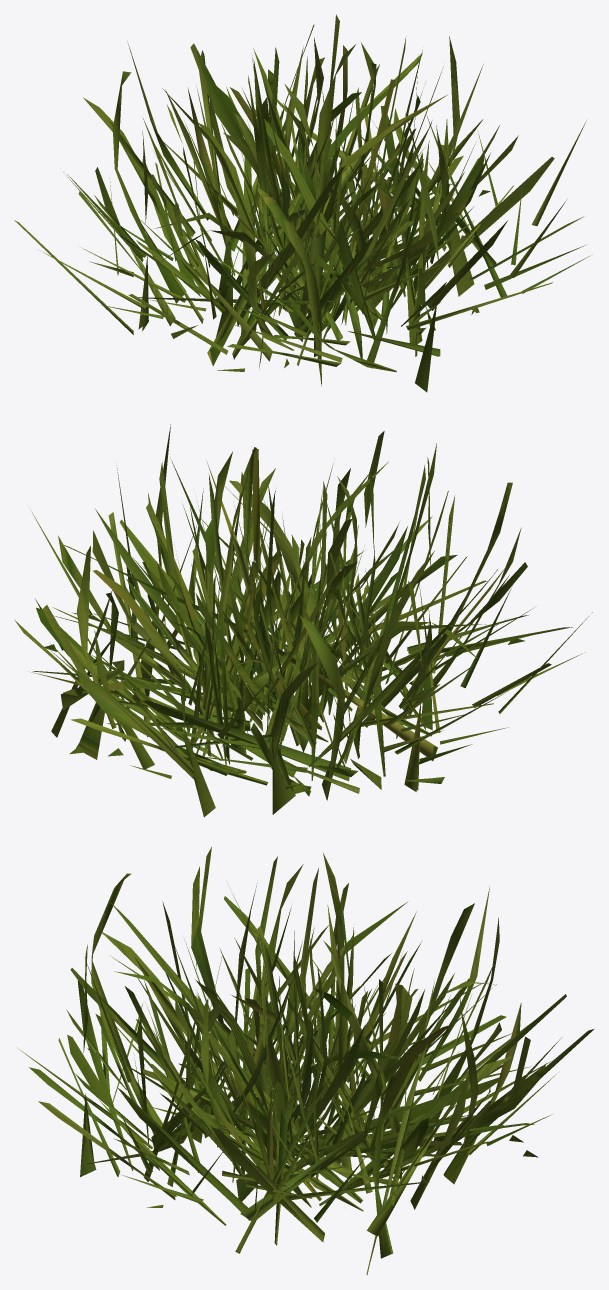
Rendered from Grass_Clump_01.glb.
3 views of the same model, one above another, from view 1: azimuth 30°, elevation 25°; view 2: azimuth 150°, elevation 25°; view 3: azimuth 270°, elevation 25° (orthographic). The views are drawn at different scales.
Parts seen in each view (by area): view 1: Grass_Clump_01; view 2: Grass_Clump_01; view 3: Grass_Clump_01.
Boxes of the visible parts, bbox=[...] form: Grass_Clump_01: bbox=[14, 14, 592, 392]; Grass_Clump_01: bbox=[14, 424, 592, 817]; Grass_Clump_01: bbox=[19, 847, 593, 1274].
Size of the model in its own units: 0.3534 by 0.2 by 0.3523.
1 material, 1 textured.
